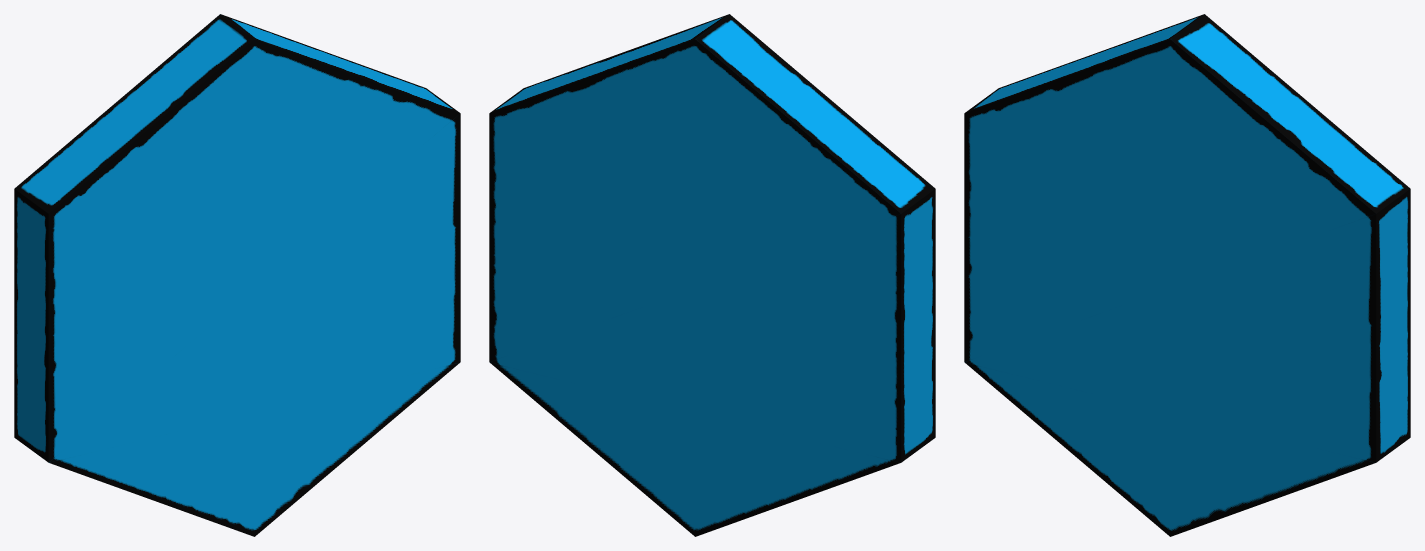
The model's file is Water Tile.glb.
3 renders of one model, left to right at view 1: azimuth 30°, elevation 25°; view 2: azimuth 150°, elevation 25°; view 3: azimuth 330°, elevation 25°, orthographic.
Visible parts, largest first — view 1: node_id3; view 2: node_id3; view 3: node_id3.
Boxes of the visible parts, x1,y1,x2,y2 form: node_id3: (14,14,460,536); node_id3: (489,14,935,536); node_id3: (964,14,1410,536).
Bounding box in the file's own units: 0.4434 × 0.512 × 0.064.
Materials: 1 (1 with a texture image).
